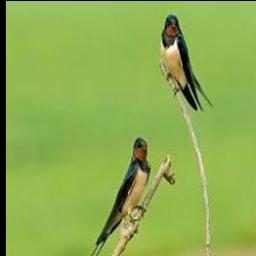Swallow: (91, 136, 150, 256), (159, 14, 212, 112)
